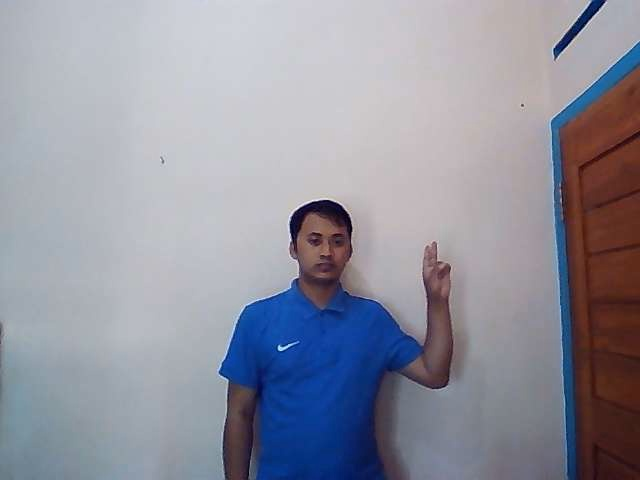U: (421, 240, 453, 304)
